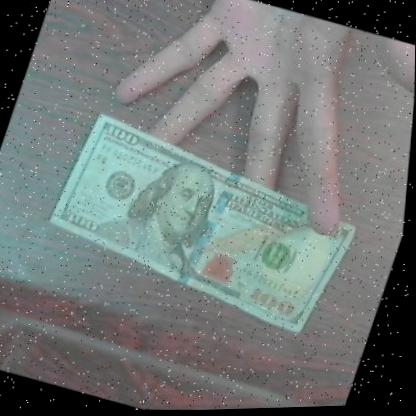dollar_front: (29, 98, 384, 353)
